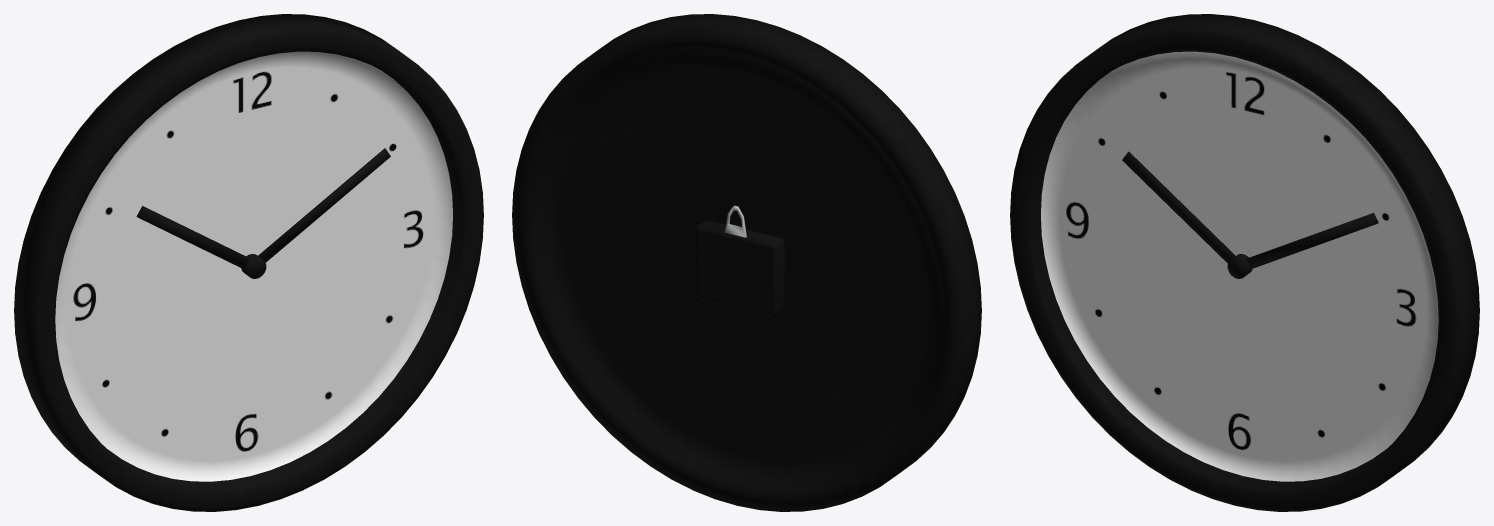
Rendered from WallClock3.obj.
3 renders of one model, left to right at view 1: azimuth 30°, elevation 25°; view 2: azimuth 150°, elevation 25°; view 3: azimuth 330°, elevation 25°, orthographic.
Visible parts, largest first — view 1: WallClock3; view 2: WallClock3; view 3: WallClock3.
Boxes of the visible parts, x1,y1,x2,y2 form: WallClock3: (14, 14, 483, 511); WallClock3: (512, 14, 981, 511); WallClock3: (1010, 14, 1479, 511).
Size of the model in its own units: 12.01 by 12.01 by 1.06.
